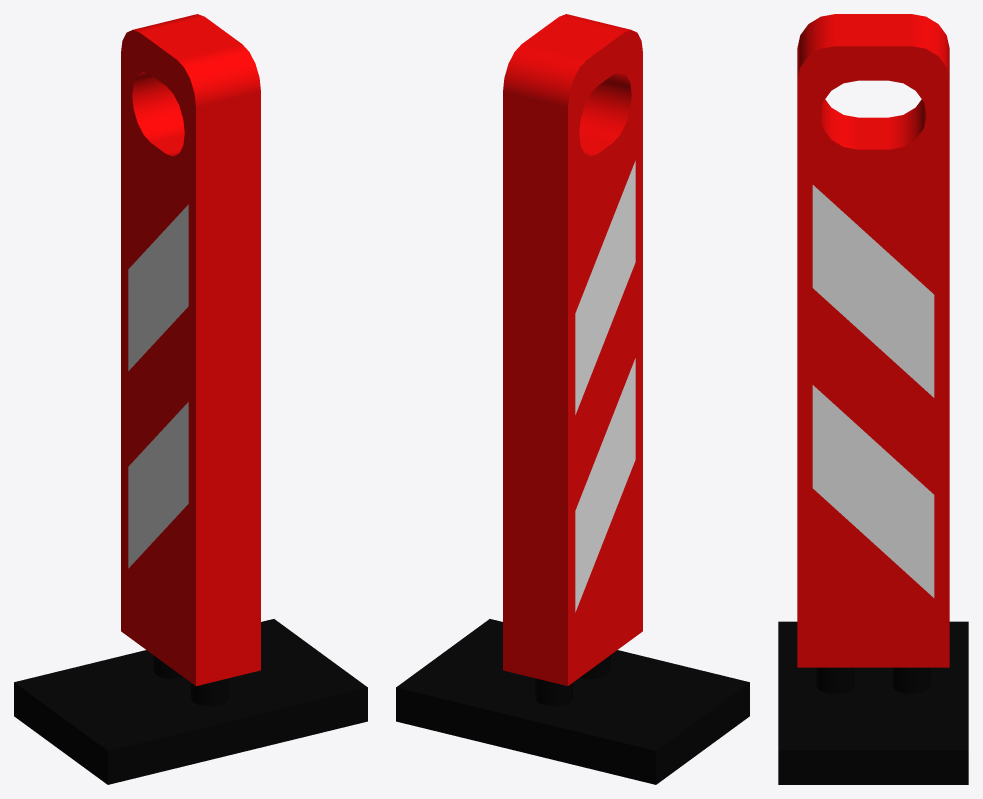
Rendered from Traffic_Cone_100cm.DAE.
3 renders of one model, left to right at view 1: azimuth 30°, elevation 25°; view 2: azimuth 150°, elevation 25°; view 3: azimuth 270°, elevation 25°, orthographic.
Parts seen in each view (by area): view 1: SplitFBXASC032Line1; view 2: SplitFBXASC032Line1; view 3: SplitFBXASC032Line1.
Boxes of the visible parts, bbox=[...] form: SplitFBXASC032Line1: bbox=[14, 14, 367, 784]; SplitFBXASC032Line1: bbox=[396, 14, 749, 784]; SplitFBXASC032Line1: bbox=[778, 14, 968, 784].
Size of the model in its own units: 15.75 by 39.37 by 9.84.
